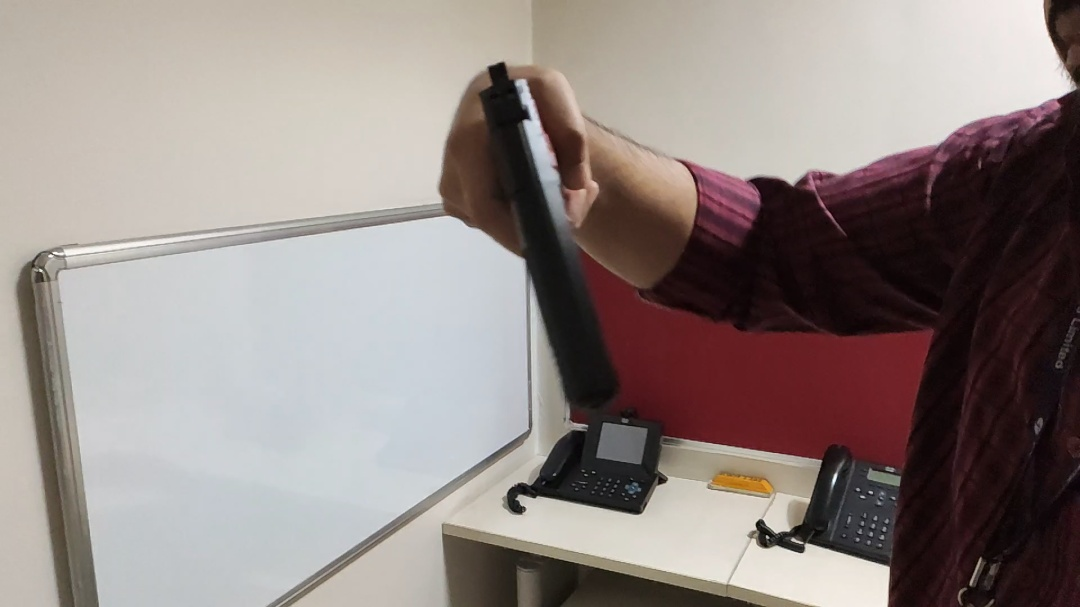gun: (438, 48, 644, 413)
